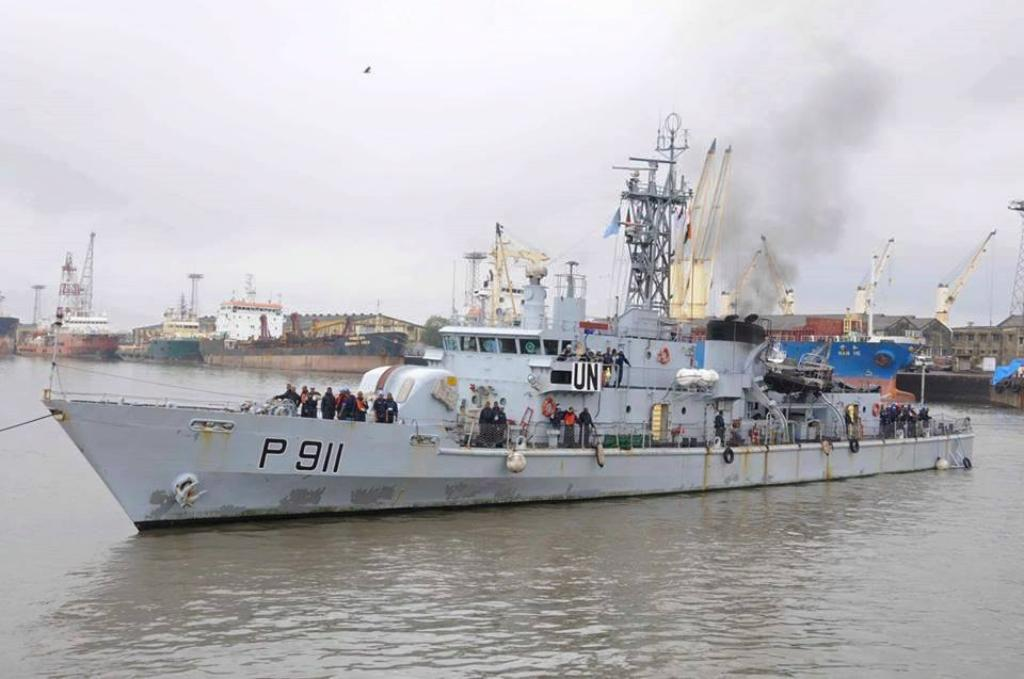Warship: (40, 101, 970, 533)
